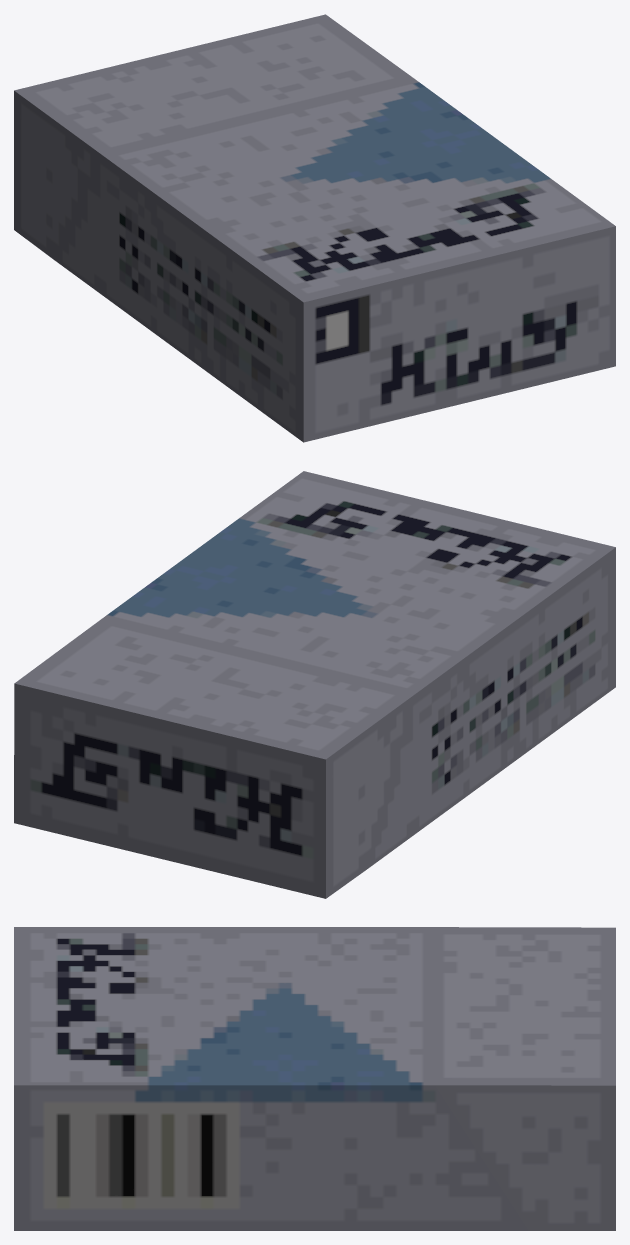
File: CigarettesPack.fbx
3 views of the same model, one above another, from view 1: azimuth 30°, elevation 25°; view 2: azimuth 150°, elevation 25°; view 3: azimuth 270°, elevation 25° (orthographic). The views are drawn at different scales.
Visible parts, largest first — view 1: CigarettesPack; view 2: CigarettesPack; view 3: CigarettesPack.
Part boxes in pixels (x1,y1,x2,y2): CigarettesPack: [14, 14, 615, 442]; CigarettesPack: [14, 471, 615, 898]; CigarettesPack: [14, 927, 615, 1230].
Size of the model in its own units: 5.6 by 2.4 by 9.
Materials: 1 (1 with a texture image).
